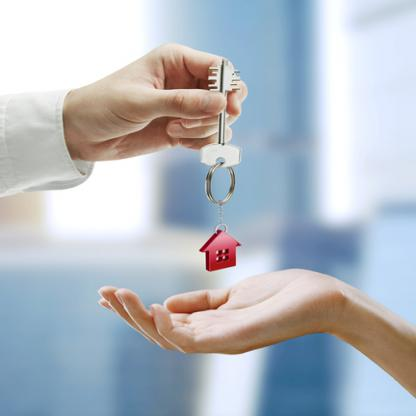keys: (199, 54, 243, 171)
